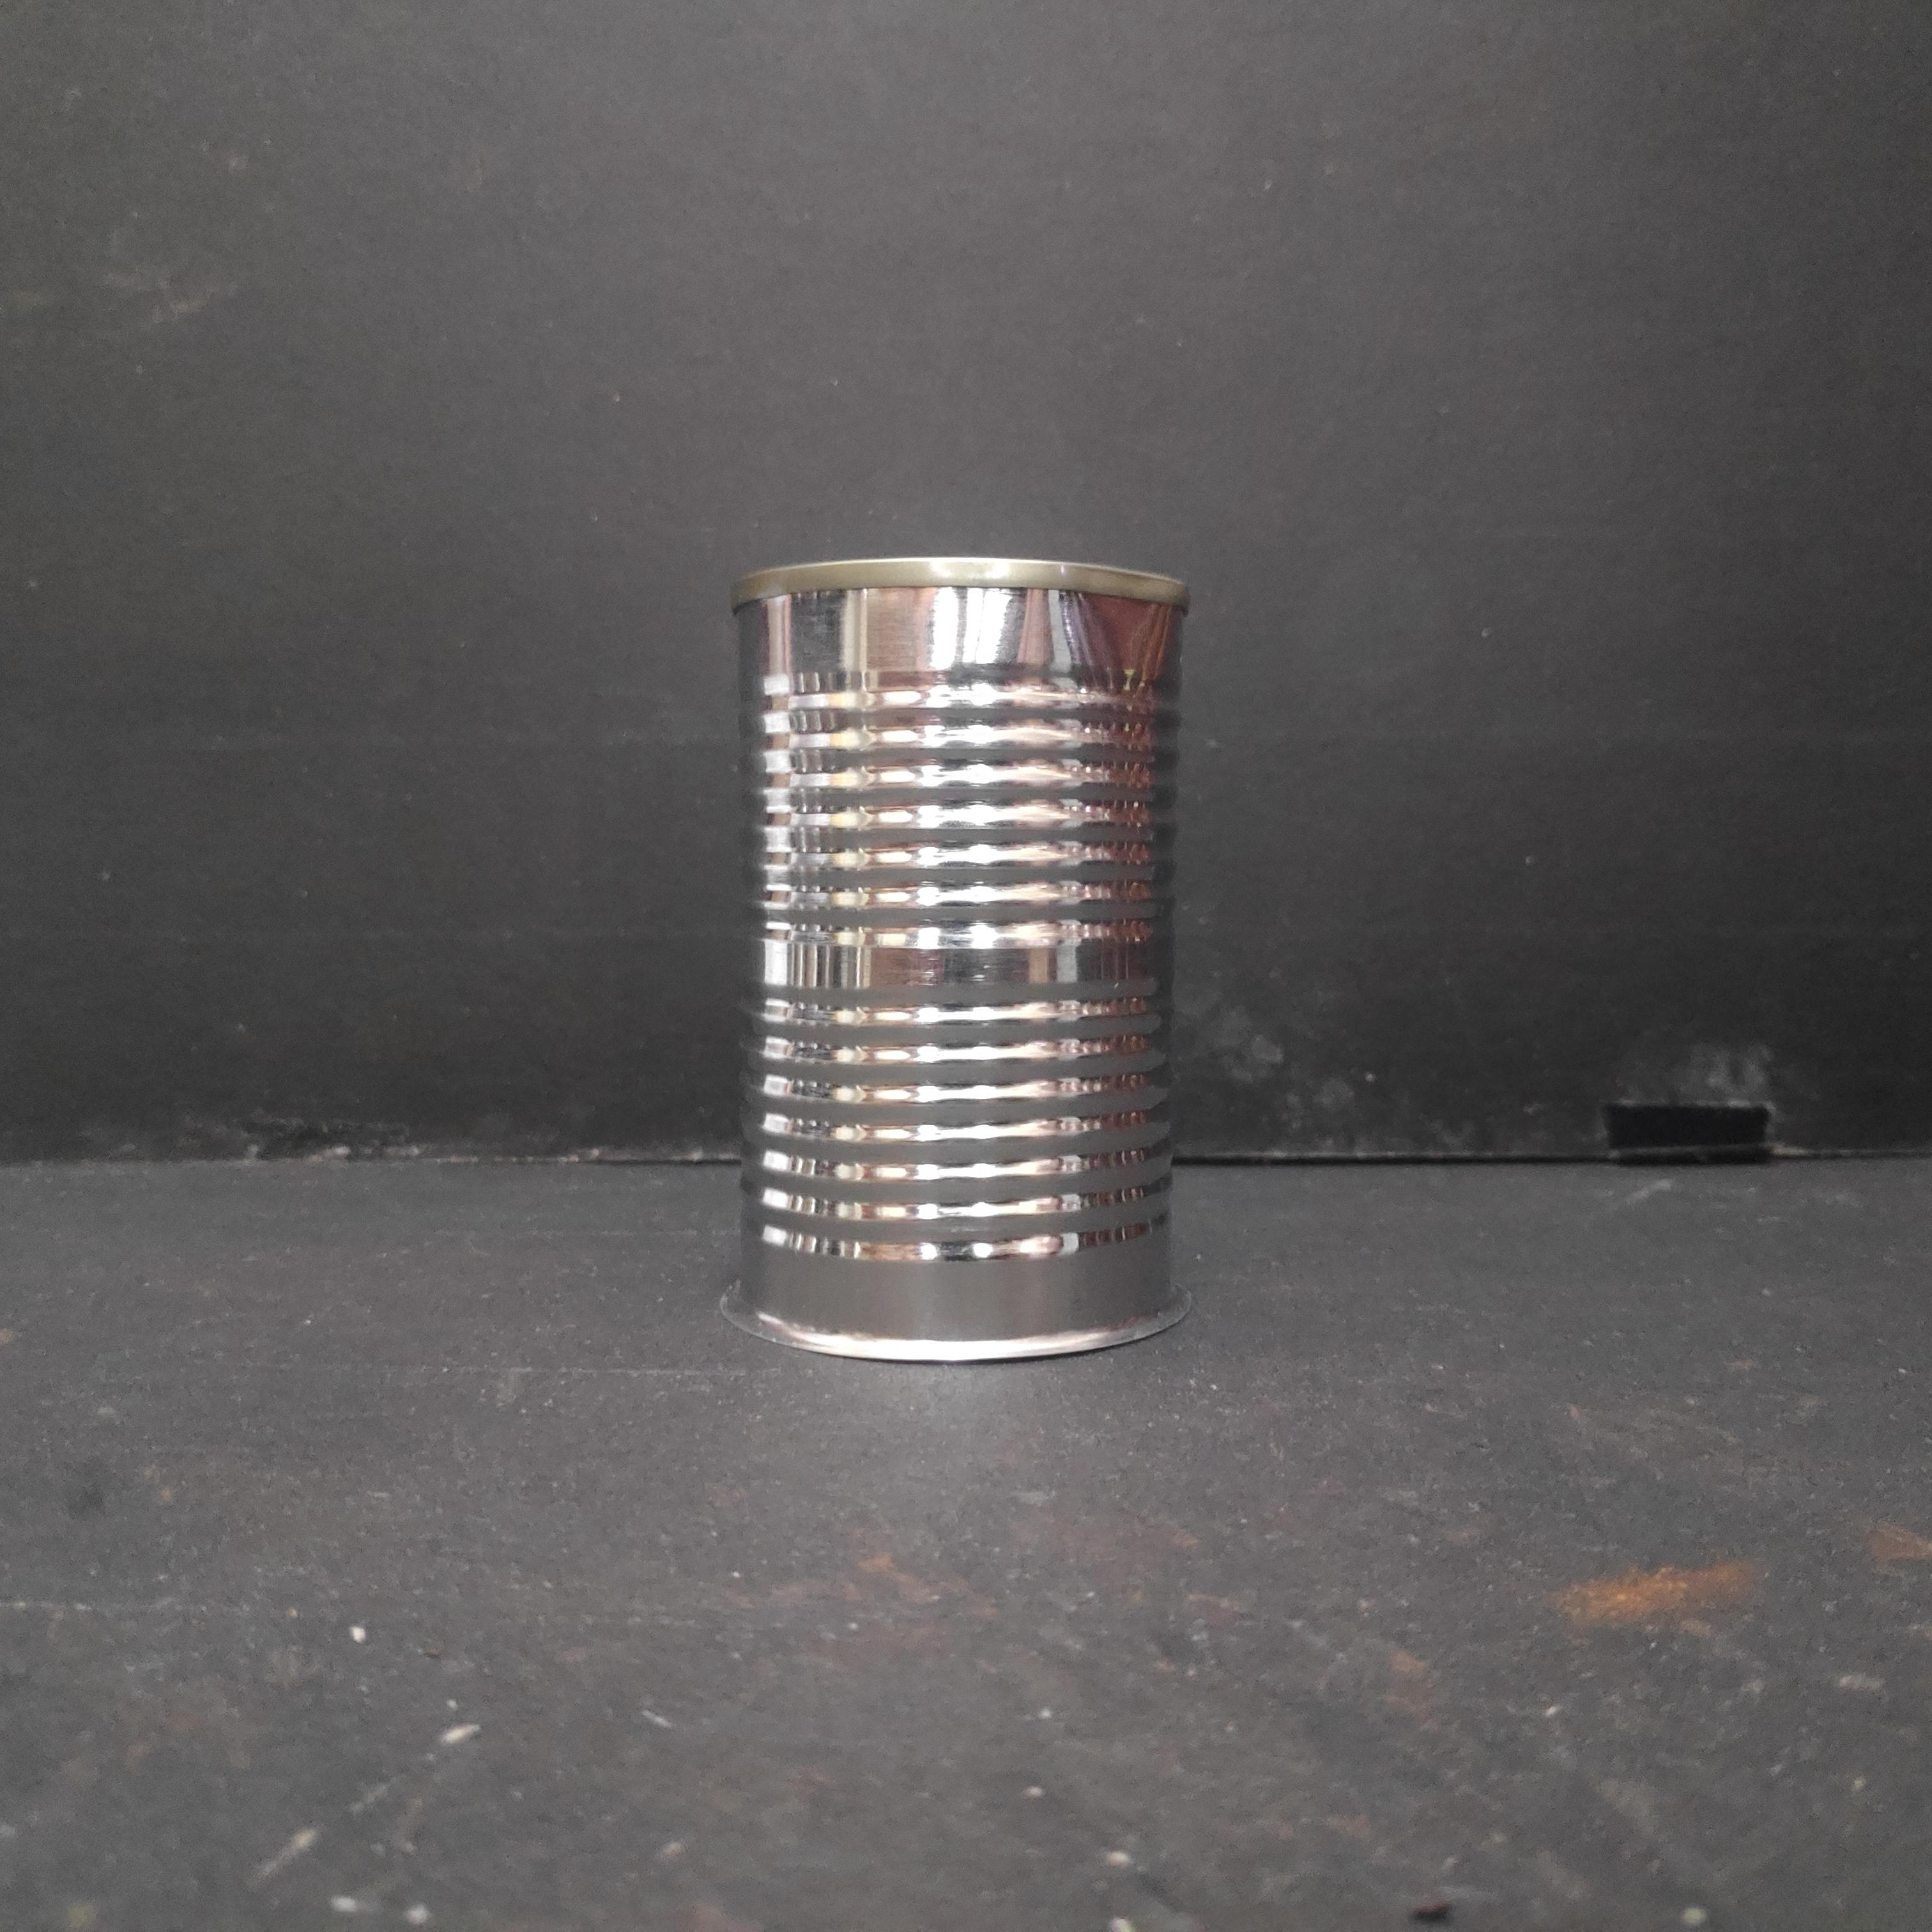Minor Defect: (709, 541, 1205, 1371)
